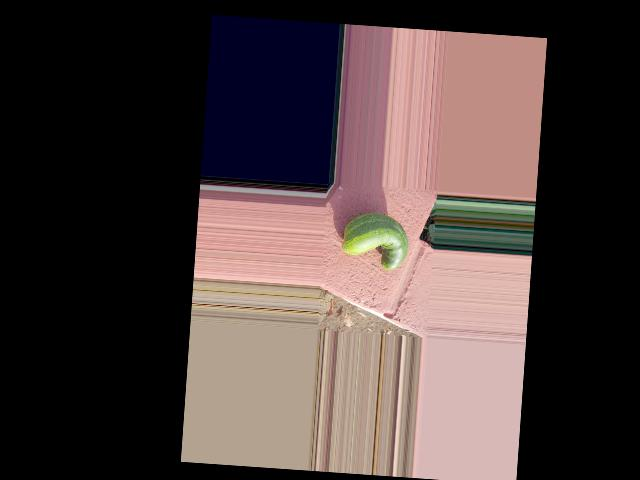cucumber: (340, 211, 410, 272)
